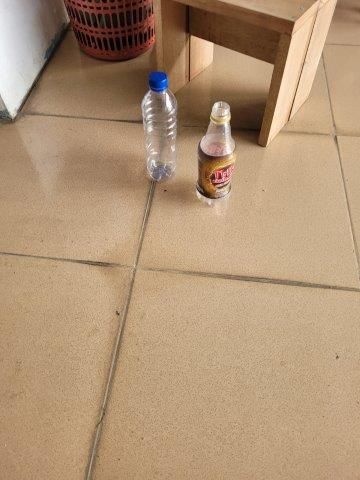botolplastik: (197, 102, 236, 206), (144, 75, 177, 187)
